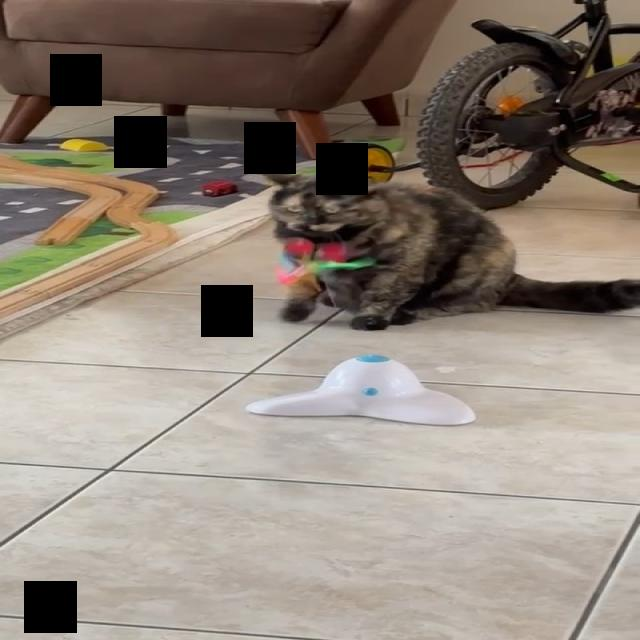authorized: (256, 168, 639, 332)
